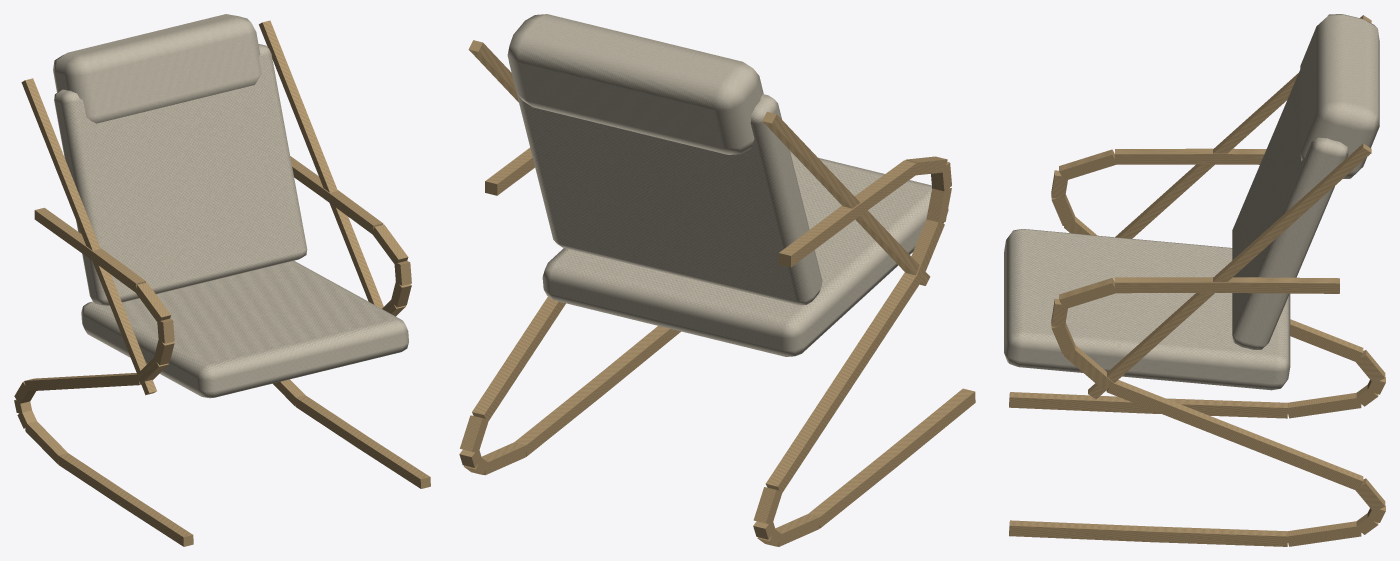
The model's file is poang-mobile.glb.
3 views of the same model, side by side, from view 1: azimuth 30°, elevation 25°; view 2: azimuth 150°, elevation 25°; view 3: azimuth 270°, elevation 25° (orthographic). The views are drawn at different scales.
Visible parts, largest first — view 1: POÄNG Bentwood armchair; view 2: POÄNG Bentwood armchair; view 3: POÄNG Bentwood armchair.
Part boxes in pixels (x1,y1,x2,y2): POÄNG Bentwood armchair: (14, 14, 430, 546); POÄNG Bentwood armchair: (459, 14, 975, 546); POÄNG Bentwood armchair: (1004, 14, 1385, 546).
Size of the model in its own units: 0.68 by 1 by 0.82.
2 materials, 2 textured.
